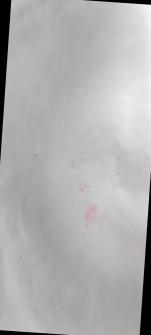lipstick: (80, 202, 100, 231), (74, 180, 89, 194)
